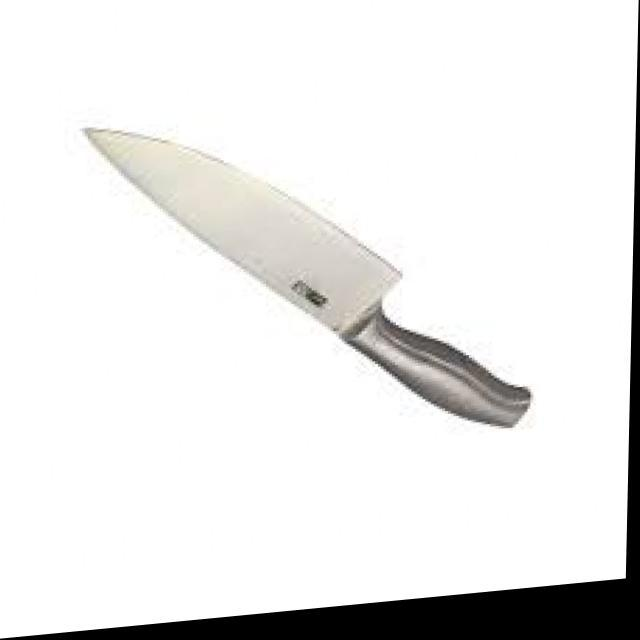knife: (77, 124, 534, 434)
